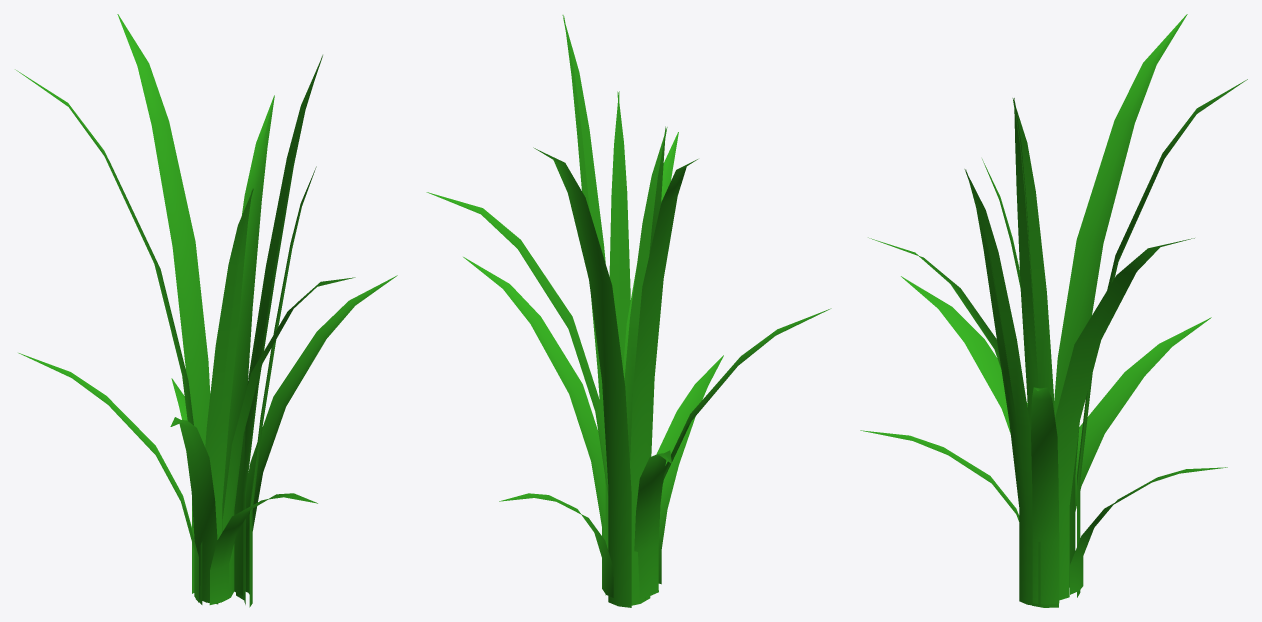
File: Reed.fbx
The picture shows the model from 3 angles, left to right: view 1: azimuth 30°, elevation 25°; view 2: azimuth 150°, elevation 25°; view 3: azimuth 270°, elevation 25°; orthographic projection.
Parts seen in each view (by area): view 1: Reed; view 2: Reed; view 3: Reed.
Part boxes in pixels (x1,y1,x2,y2): Reed: [15, 14, 397, 607]; Reed: [426, 15, 831, 607]; Reed: [860, 14, 1247, 607].
Bounding box in the file's own units: 130 × 218 × 141.
